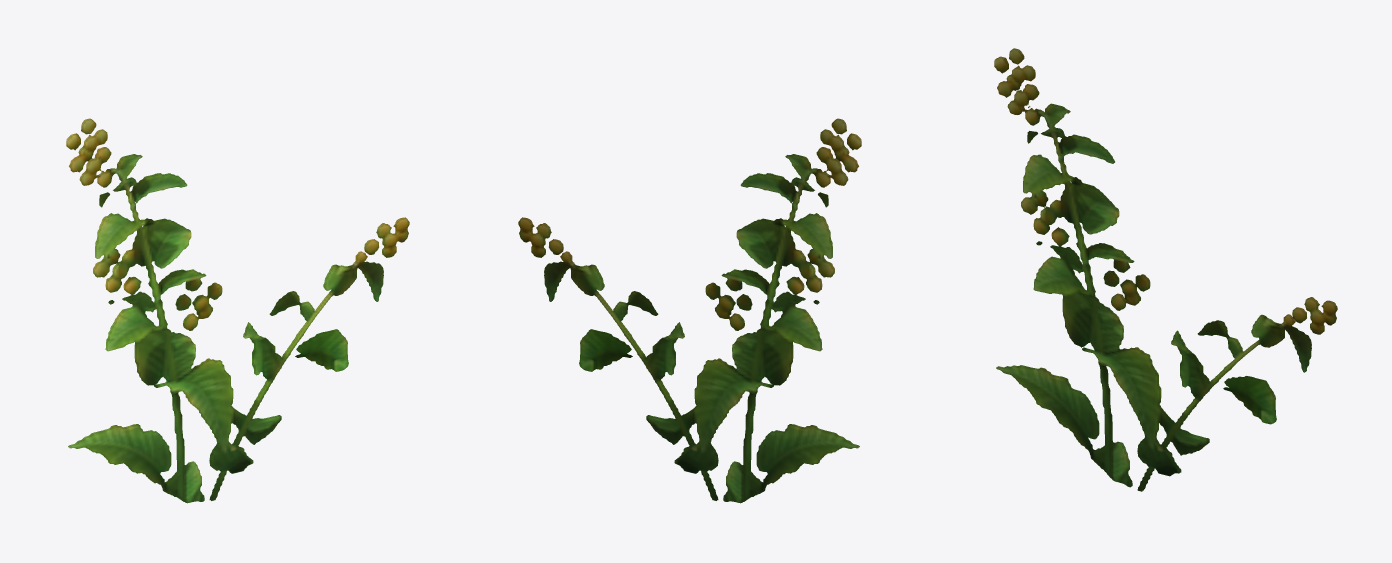
Rendered from select_flower04.FBX.
3 views of the same model, side by side, from view 1: azimuth 30°, elevation 25°; view 2: azimuth 150°, elevation 25°; view 3: azimuth 330°, elevation 25° (orthographic).
Visible parts, largest first — view 1: select_flower04; view 2: select_flower04; view 3: select_flower04.
Boxes of the visible parts, box(x1,y1,x2,y2) form: select_flower04: box(66, 118, 409, 503); select_flower04: box(518, 118, 861, 503); select_flower04: box(994, 48, 1337, 491).
Bounding box in the file's own units: 38.44 × 36.18 × 0.1871.
